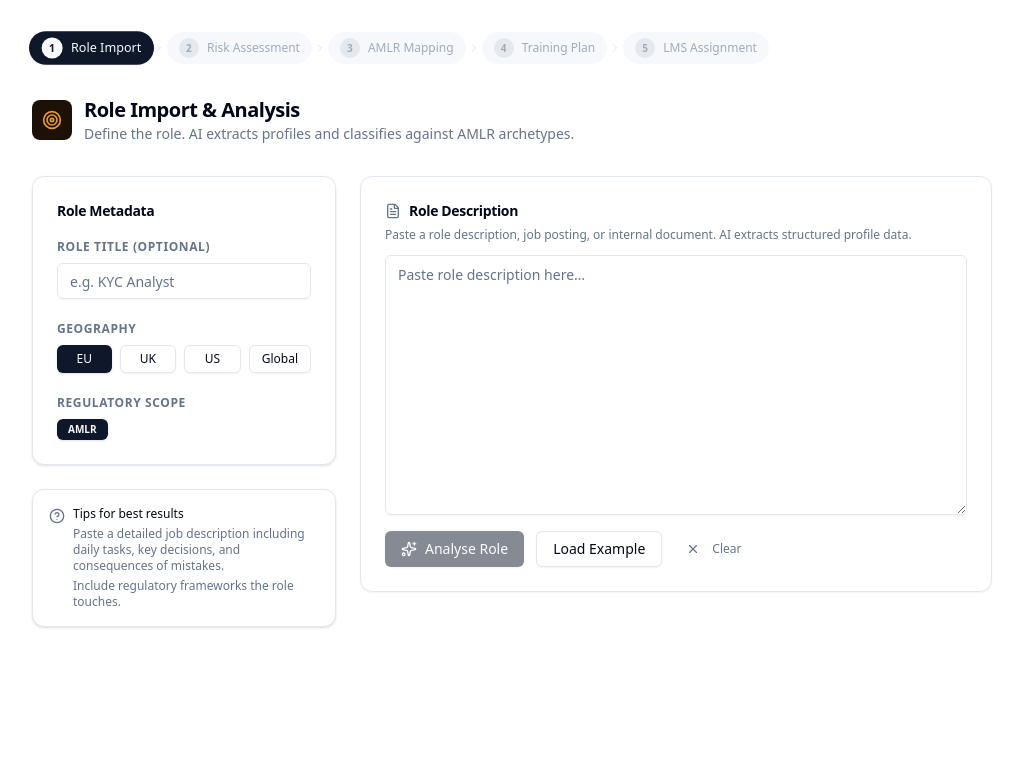
Test: RoleImport — Active Pipeline › shows error on failed analysis
Expected: the heading "Role Import & Analysis" is shown, x1=84 y1=96 x2=300 y2=123
Type "something" into the text box with placeholder "Paste role description here…" at (676, 385), box x1=385 y1=255 x2=967 y2=515
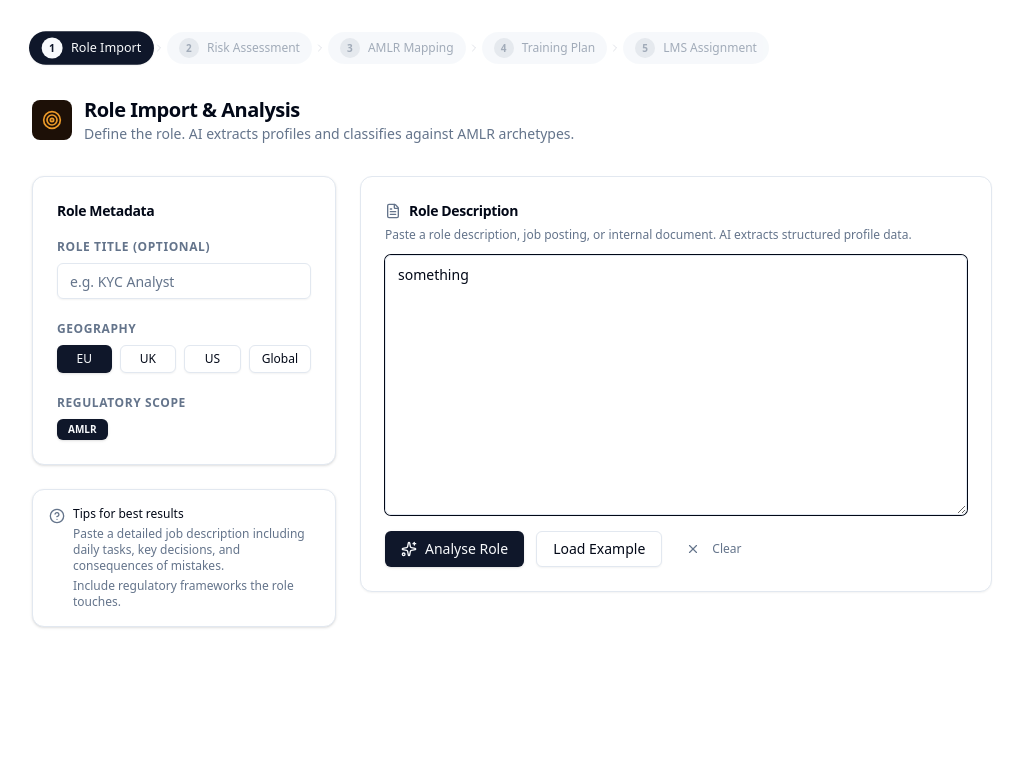
Click the button "Analyse Role" at (455, 549), box x1=385 y1=531 x2=524 y2=567
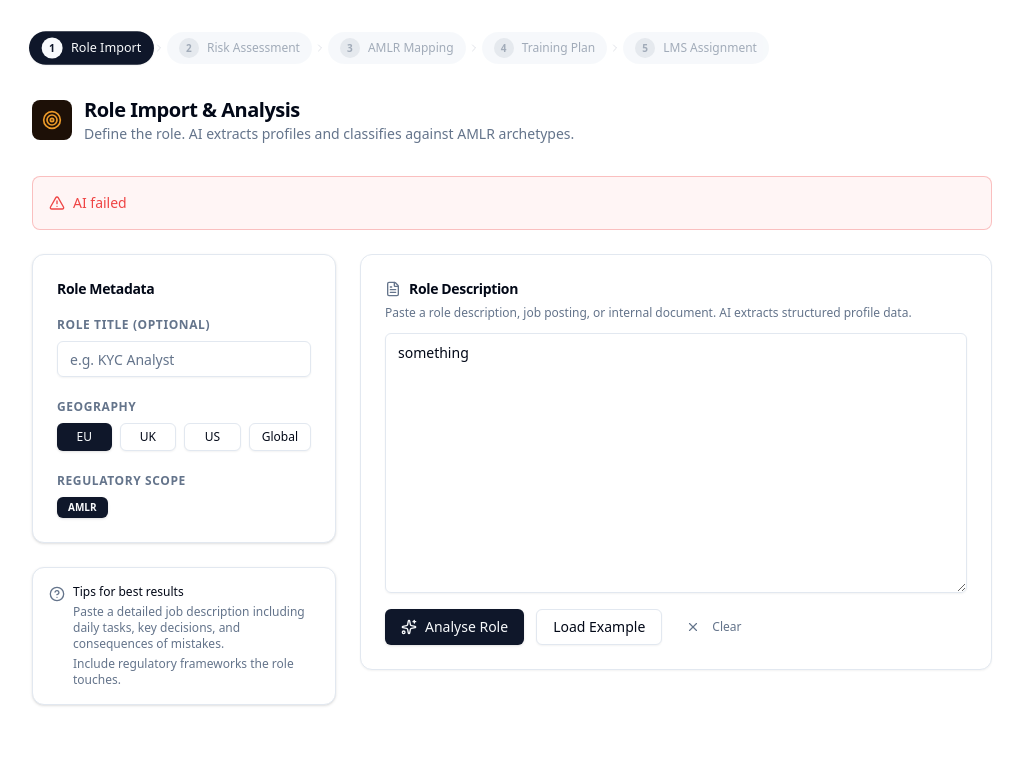
Expected: the text "AI failed" is shown, x1=32 y1=176 x2=992 y2=230
